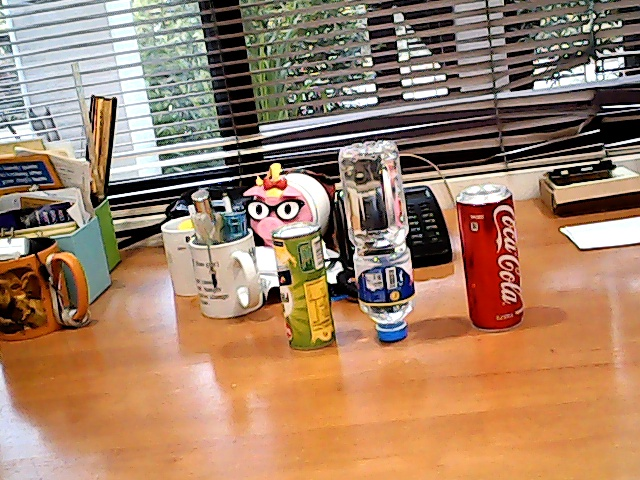Cola: (443, 169, 551, 342)
Pine Juice: (259, 216, 342, 364)
Summit Water: (334, 126, 429, 351)
